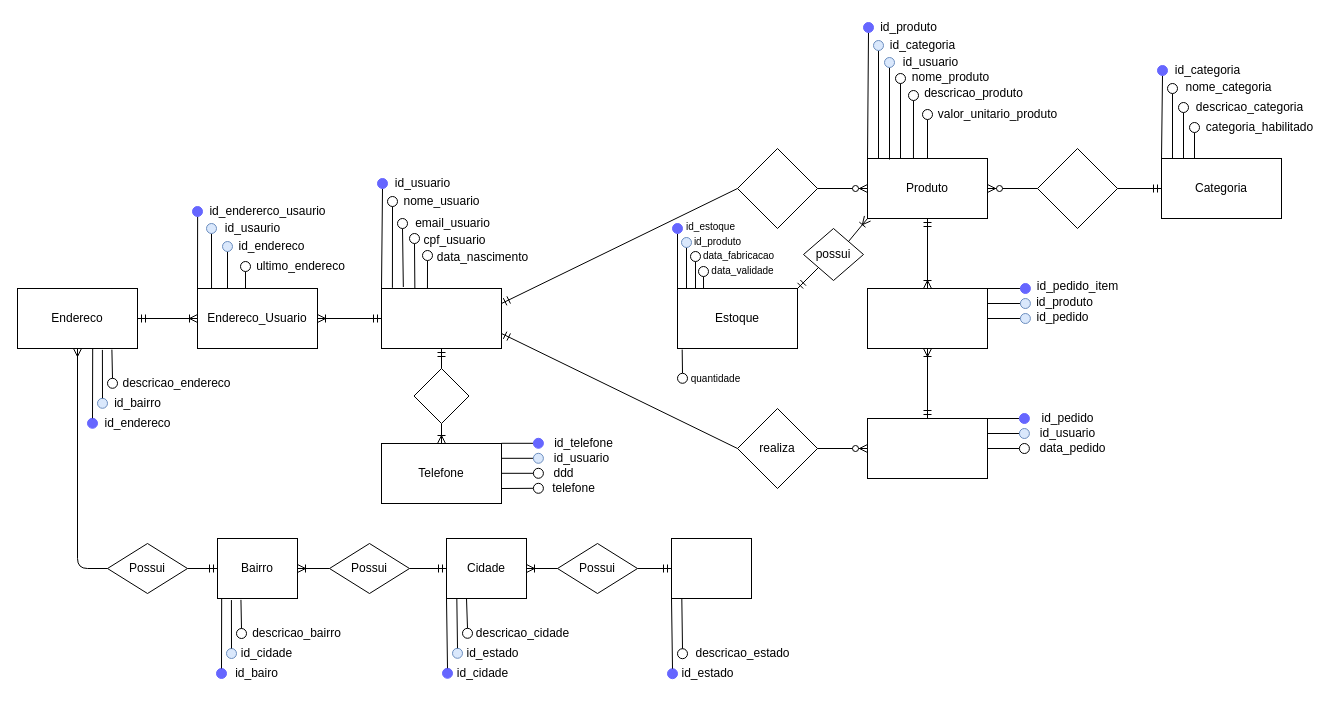
Some shapes in this 1337 by 701 pixel diagram are drawn without their labels. The shapes that lost their labels are listed below. From the top down, each one's box as (x1, y1, x2, y2) in pixels, then its label:
(736, 148, 818, 228): cadastra
(1036, 148, 1118, 228): pertence
(380, 288, 502, 348): Usuario
(866, 288, 988, 348): Pedido_Item
(413, 368, 469, 424): tem
(866, 418, 988, 478): Pedido
(670, 538, 752, 598): Estado
